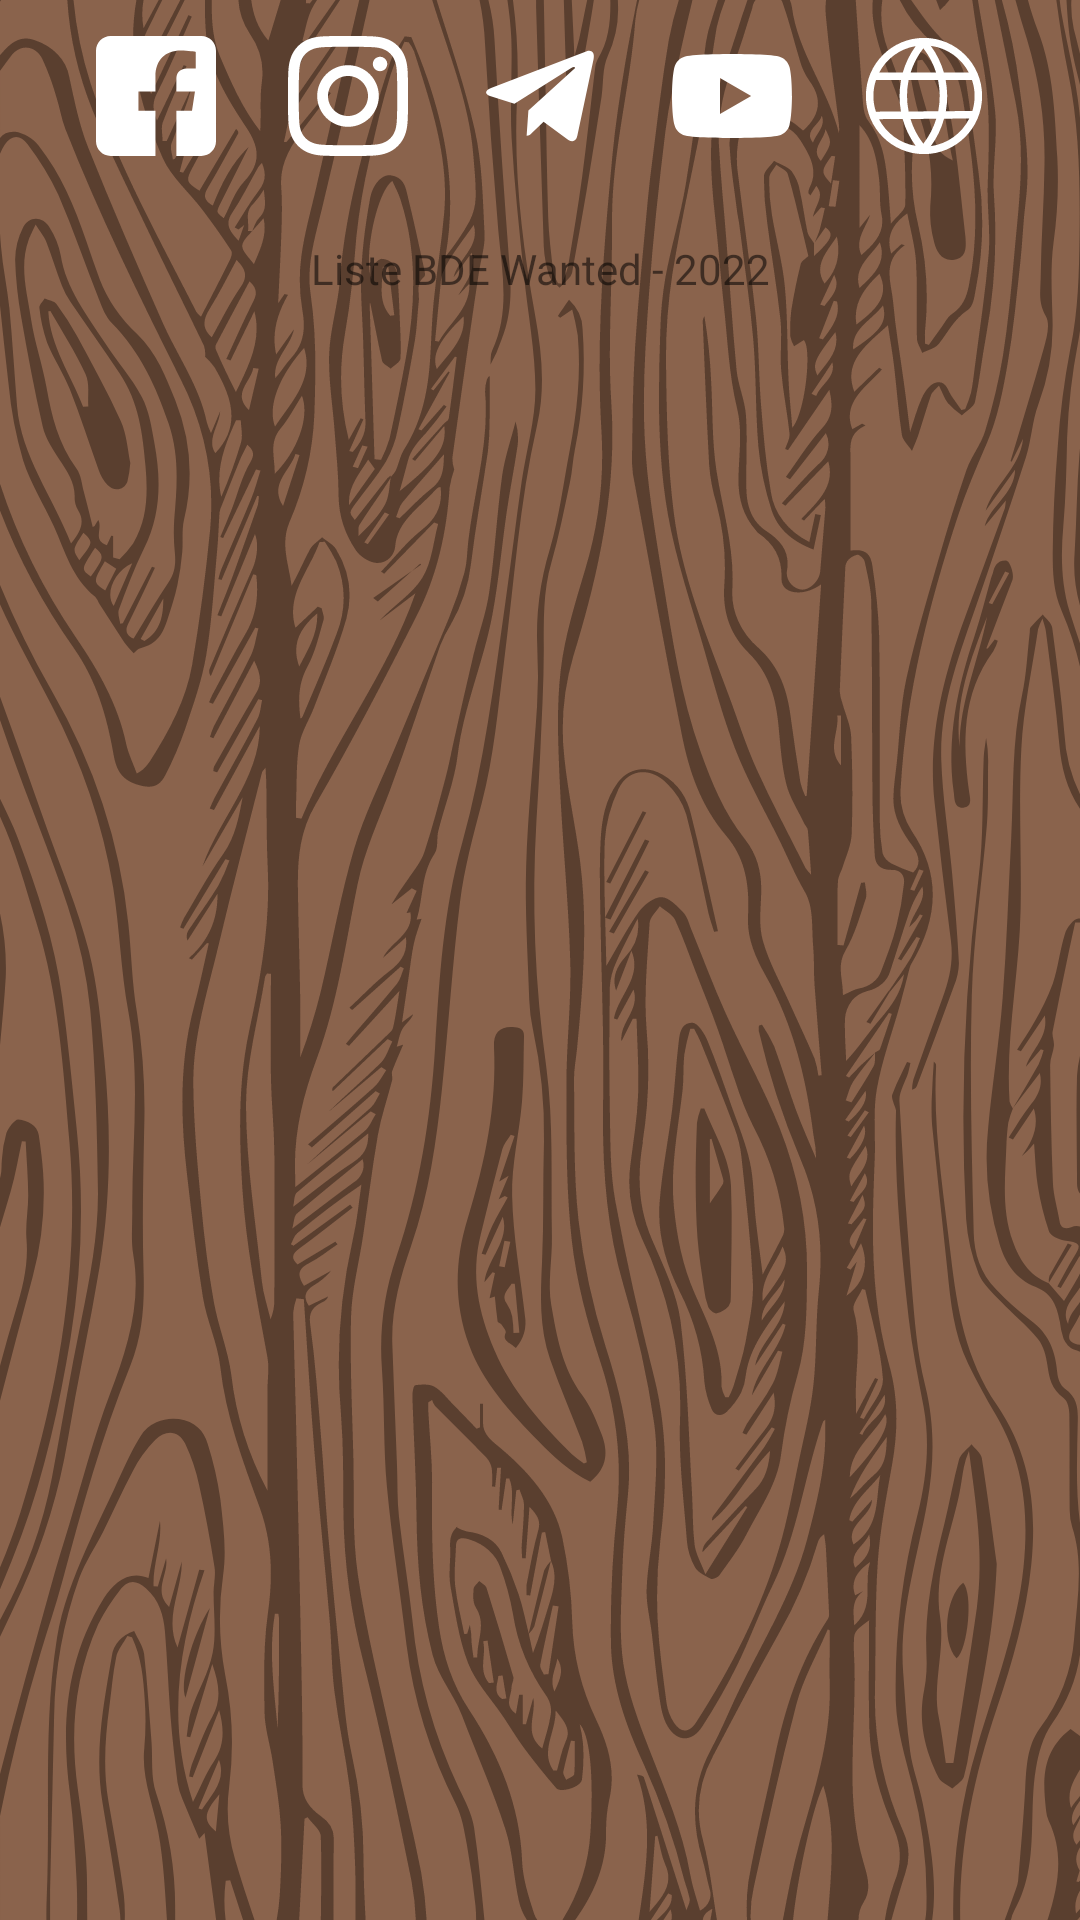

Where to tap for icons on this 1080px×1920px app screen, as (x=x, y=y):
Site web: (x=924, y=96)
